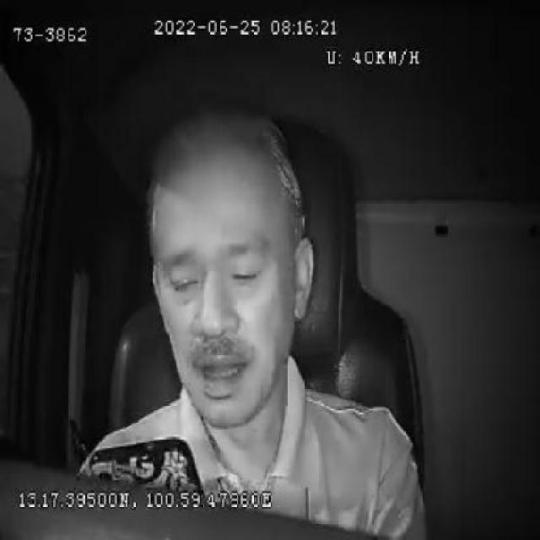phone: (88, 434, 204, 492)
